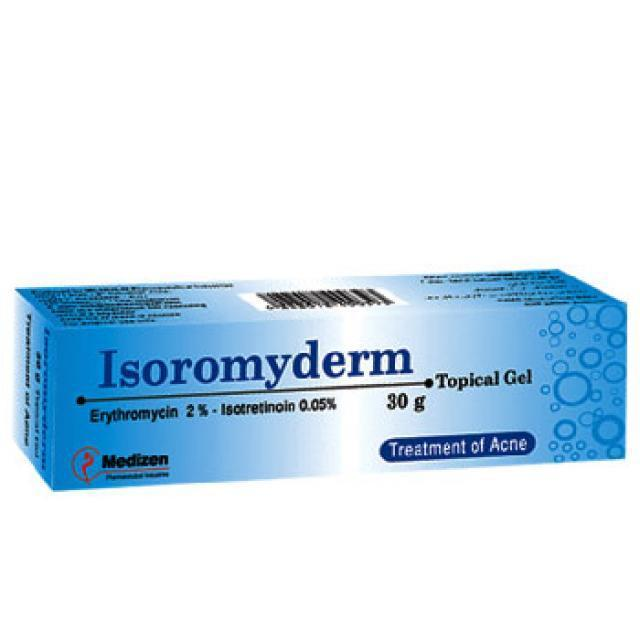drug-name: (96, 338, 422, 394)
